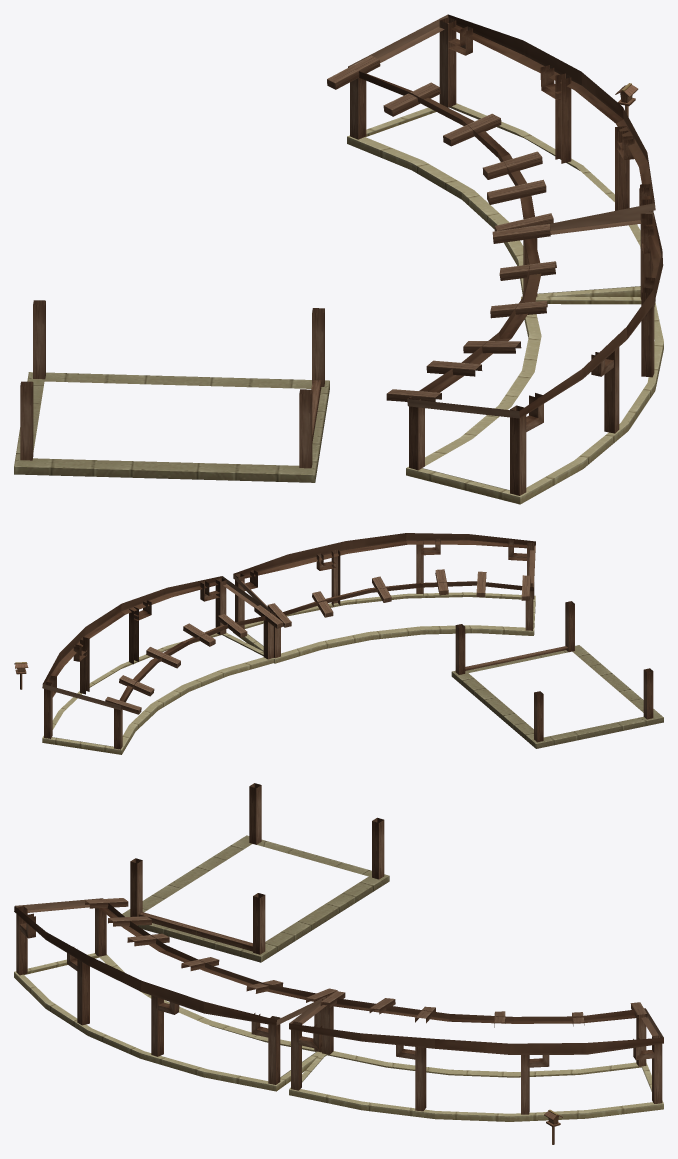
The model's file is Area_13_29.fbx.
3 renders of one model, top to bottom at view 1: azimuth 30°, elevation 25°; view 2: azimuth 150°, elevation 25°; view 3: azimuth 270°, elevation 25°, orthographic. The views are drawn at different scales.
Parts seen in each view (by area): view 1: Area_13_29; view 2: Area_13_29; view 3: Area_13_29.
Part boxes in pixels (x1,y1,x2,y2): Area_13_29: (14, 14, 663, 504); Area_13_29: (14, 533, 663, 754); Area_13_29: (14, 783, 663, 1144).
Size of the model in its own units: 4527 by 546 by 4040.
